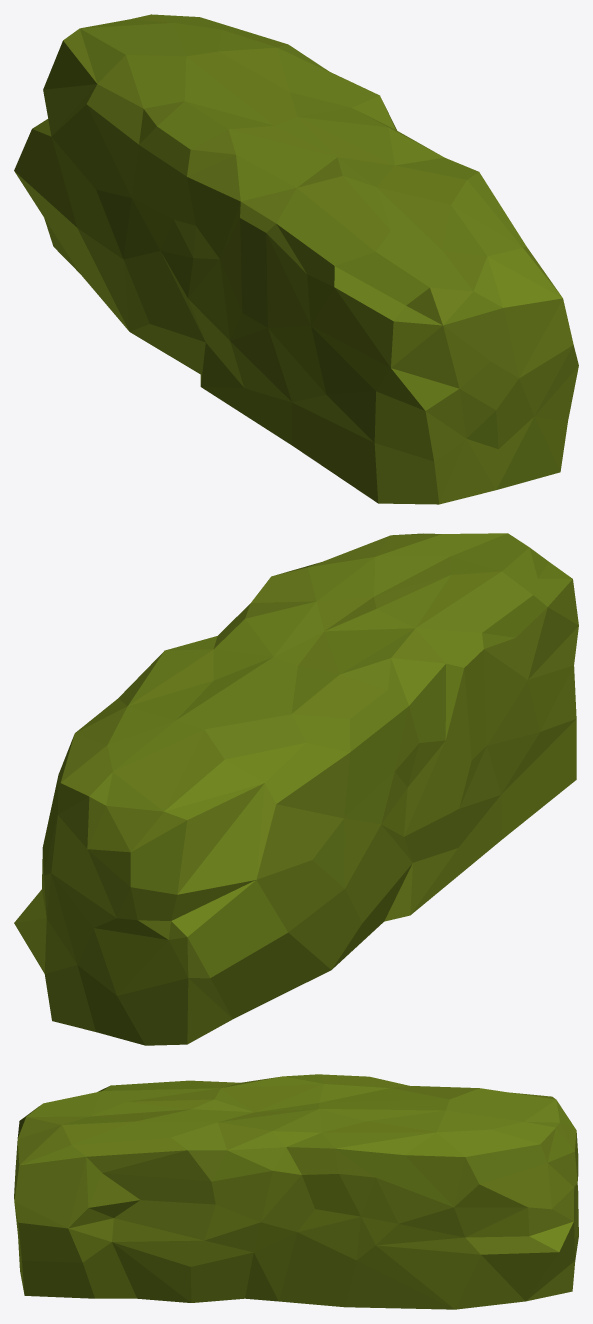
The model's file is Hedge3x1_GameJamAssets.fbx.
3 renders of one model, top to bottom at view 1: azimuth 30°, elevation 25°; view 2: azimuth 150°, elevation 25°; view 3: azimuth 270°, elevation 25°, orthographic. The views are drawn at different scales.
Parts seen in each view (by area): view 1: Hedge 3x1; view 2: Hedge 3x1; view 3: Hedge 3x1.
Part boxes in pixels (x1=…): Hedge 3x1: x1=14, y1=14, x2=578, y2=504; Hedge 3x1: x1=14, y1=533, x2=578, y2=1045; Hedge 3x1: x1=14, y1=1074, x2=578, y2=1309.
Size of the model in its own units: 100 by 100 by 300.
